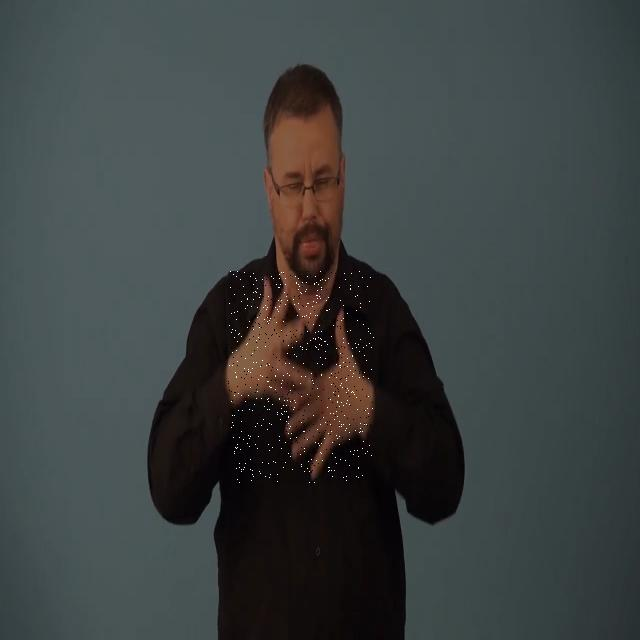juicy: (228, 272, 374, 484)
